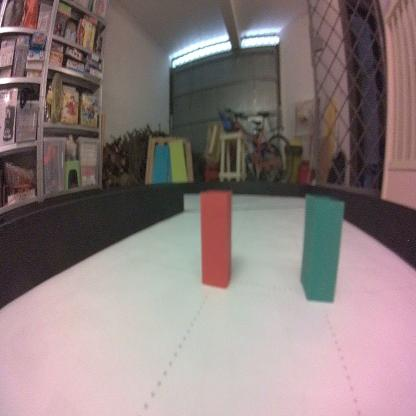green: (300, 194, 344, 306)
red: (200, 188, 233, 288)
